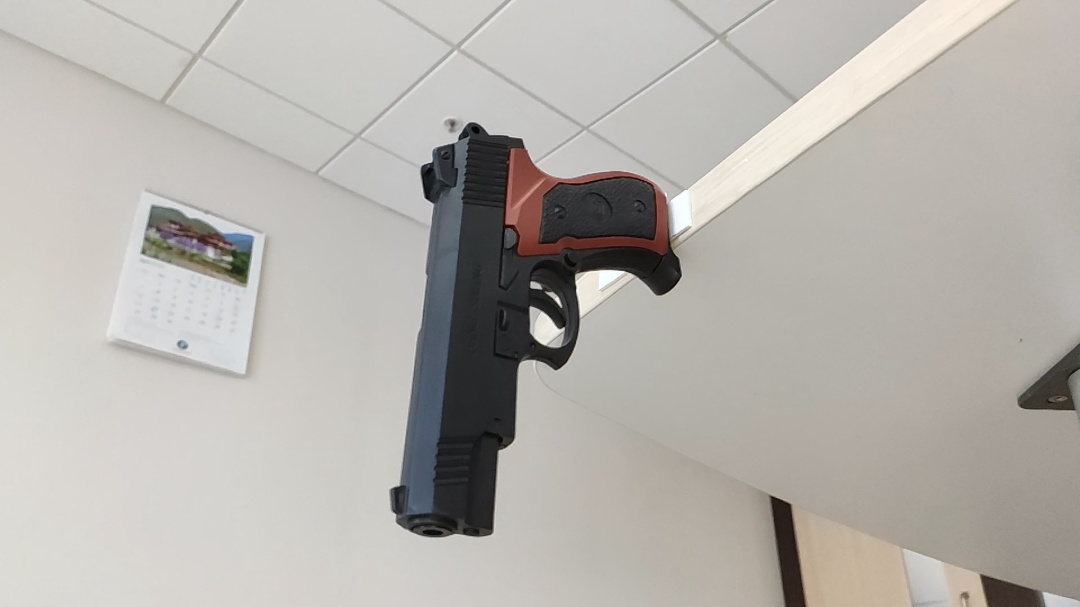gun: (385, 120, 689, 551)
